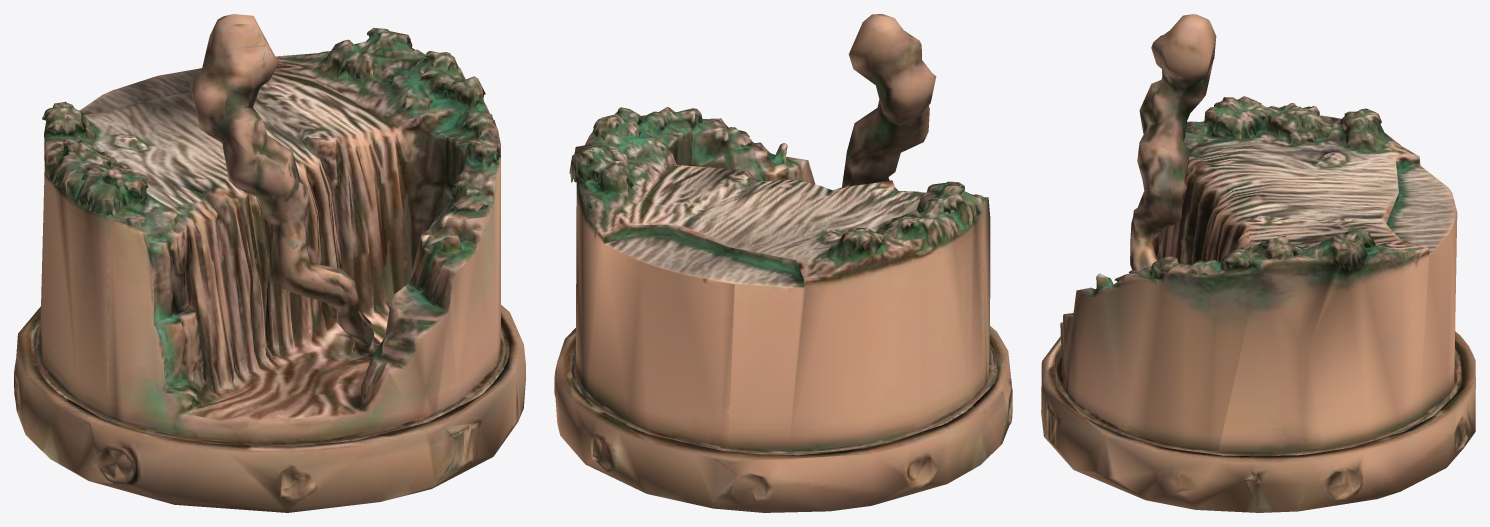
The model's file is victoria_falls.glb.
3 views of the same model, side by side, from view 1: azimuth 30°, elevation 25°; view 2: azimuth 150°, elevation 25°; view 3: azimuth 270°, elevation 25° (orthographic). The views are drawn at different scales.
Parts seen in each view (by area): view 1: Mesh_0; view 2: Mesh_0; view 3: Mesh_0.
Boxes of the visible parts, x1,y1,x2,y2 form: Mesh_0: (14,14,525,512); Mesh_0: (554,14,1012,512); Mesh_0: (1041,14,1475,512).
Size of the model in its own units: 1.91 by 1.82 by 1.89.
Materials: 1 (1 with a texture image).
